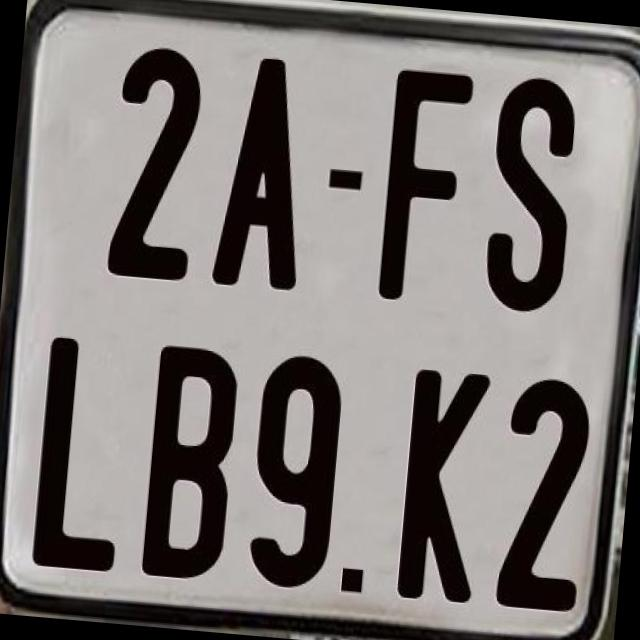2: (494, 371, 598, 611), (104, 41, 208, 278)
9: (242, 352, 350, 599)
A: (208, 50, 319, 289)
B: (140, 343, 246, 582)
F: (374, 68, 477, 306)
K: (394, 365, 492, 608)
L: (29, 333, 132, 576)
S: (481, 71, 582, 320)
